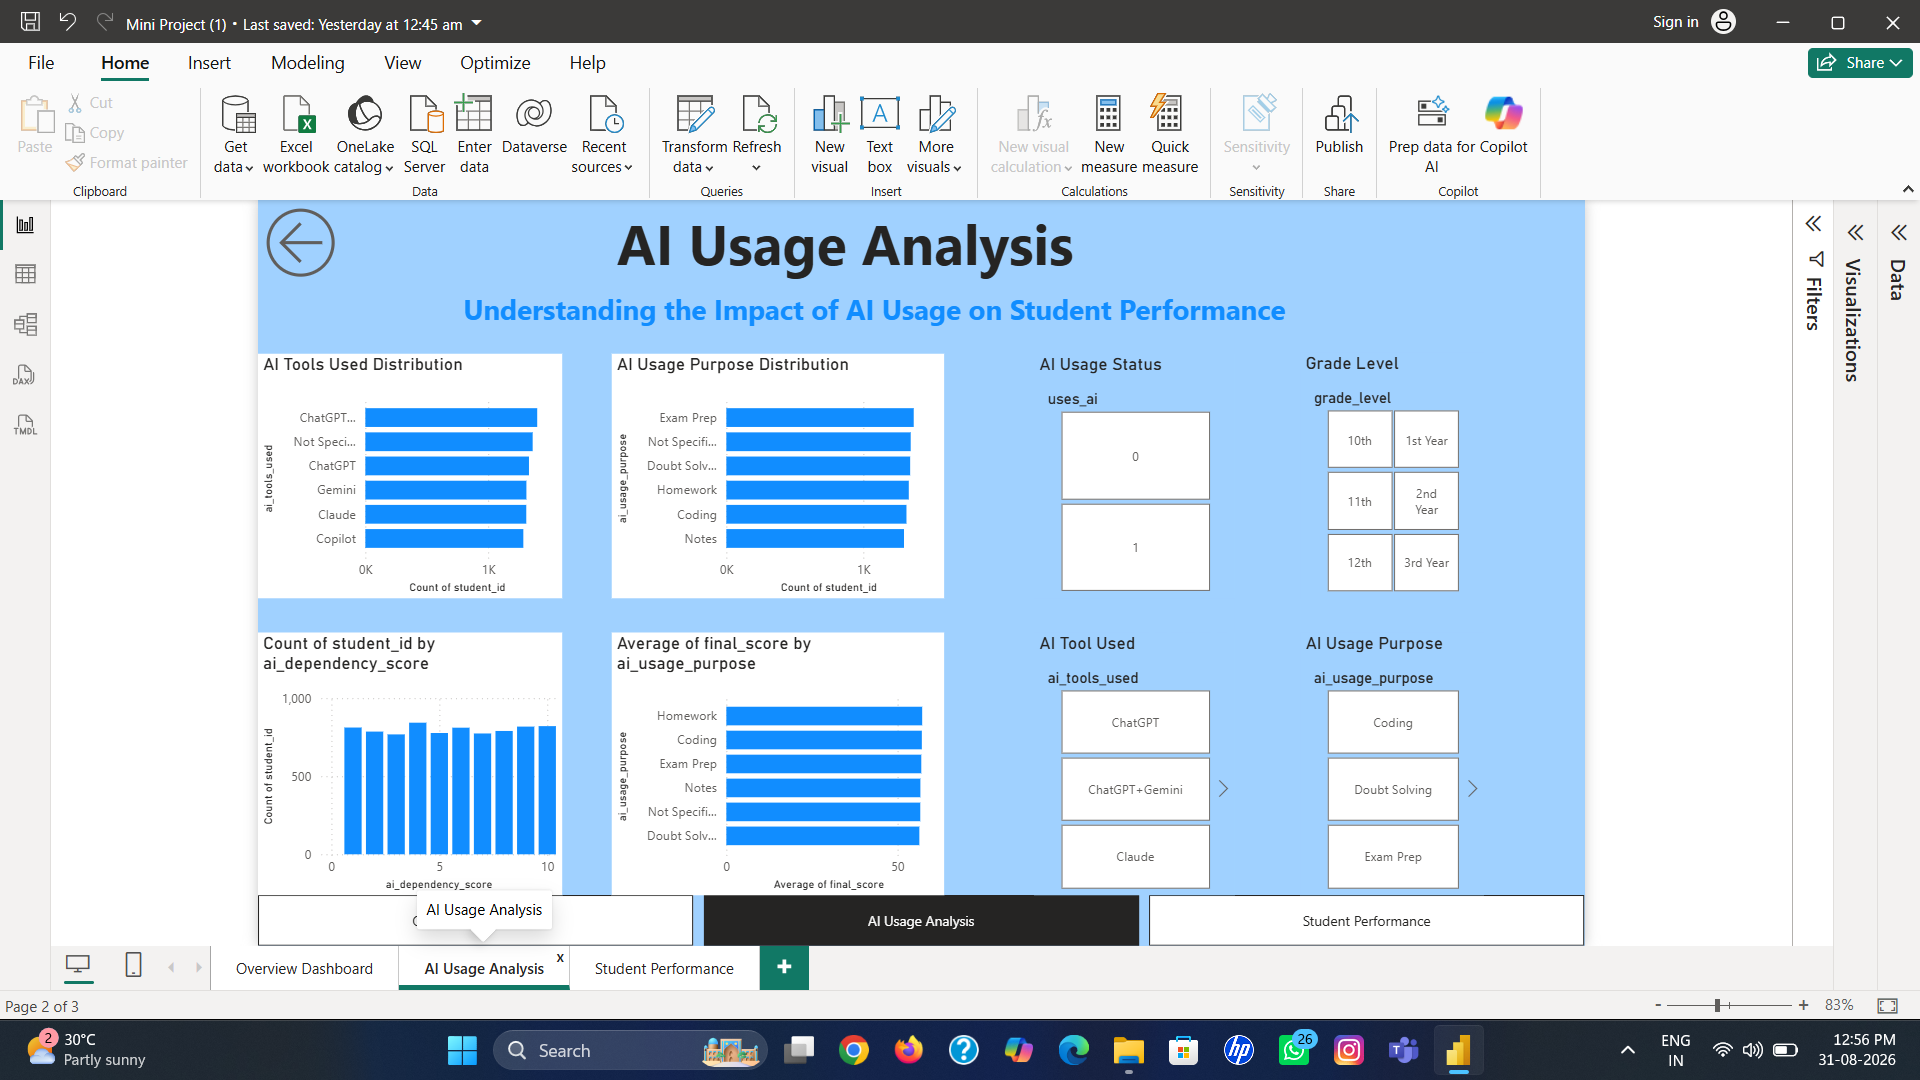

What the dashboard file says about the page in this screenshot:
{"tool":"powerbi","page":{"name":"AI Usage Analysis","canvas":[1280,720],"ordinal":1},"visuals":[{"type":"textbox","box":[341.7,0,554.4,82.3],"z":0},{"type":"textbox","box":[193.5,82.3,812.4,65.9],"z":1000},{"type":"pageNavigator","box":[0,670.6,1280.3,49.4],"z":2000},{"type":"clusteredBarChart","title":"AI Tools Used Distribution","fields":{"Category":["Cleaned Data.ai_tools_used"],"Y":["CountNonNull(Cleaned Data.student_id)"]},"box":[0,148.2,293.7,236],"z":3000},{"type":"clusteredBarChart","title":"AI Usage Purpose Distribution","fields":{"Category":["Cleaned Data.ai_usage_purpose"],"Y":["CountNonNull(Cleaned Data.student_id)"]},"box":[341.7,148.2,321.1,236],"z":4000},{"type":"clusteredColumnChart","fields":{"Category":["Cleaned Data.ai_dependency_score"],"Y":["CountNonNull(Cleaned Data.student_id)"]},"box":[0,417.2,293.7,253.9],"z":5000},{"type":"clusteredBarChart","fields":{"Y":["Avg(Cleaned Data.final_score)"],"Category":["Cleaned Data.ai_usage_purpose"]},"box":[341.7,417.2,321.1,253.9],"z":6000},{"type":"slicer","title":"AI Usage Status","fields":{"Values":["Cleaned Data.uses_ai"]},"box":[749.2,148.2,193.5,236],"z":7000},{"type":"slicer","title":"AI Tool Used","fields":{"Values":["Cleaned Data.ai_tools_used"]},"box":[749.2,417.2,193.5,253.9],"z":8000},{"type":"slicer","title":"AI Usage Purpose","fields":{"Values":["Cleaned Data.ai_usage_purpose"]},"box":[1005.8,417.2,177,253.9],"z":9000},{"type":"slicer","title":"Grade Level","fields":{"Values":["Cleaned Data.grade_level"]},"box":[1005.8,146.8,177,237.4],"z":10000},{"type":"actionButton","box":[0,0,100.2,82.3],"z":11000}]}

Visuals, with their boxes on the page's 1280x720 design canvas (x1, y1, x2, y2). These are canvas units, not pixel positions in the 1920x1080 screenshot, which may show the page scaled, cropped or inside an application window:
textbox: BBox(342, 0, 896, 82)
textbox: BBox(194, 82, 1006, 148)
pageNavigator: BBox(0, 671, 1280, 720)
"AI Tools Used Distribution" clusteredBarChart: BBox(0, 148, 294, 384)
"AI Usage Purpose Distribution" clusteredBarChart: BBox(342, 148, 663, 384)
clusteredColumnChart - Cleaned Data.ai_dependency_score x CountNonNull(Cleaned Data.student_id): BBox(0, 417, 294, 671)
clusteredBarChart - Avg(Cleaned Data.final_score) x Cleaned Data.ai_usage_purpose: BBox(342, 417, 663, 671)
"AI Usage Status" slicer: BBox(749, 148, 943, 384)
"AI Tool Used" slicer: BBox(749, 417, 943, 671)
"AI Usage Purpose" slicer: BBox(1006, 417, 1183, 671)
"Grade Level" slicer: BBox(1006, 147, 1183, 384)
actionButton: BBox(0, 0, 100, 82)
